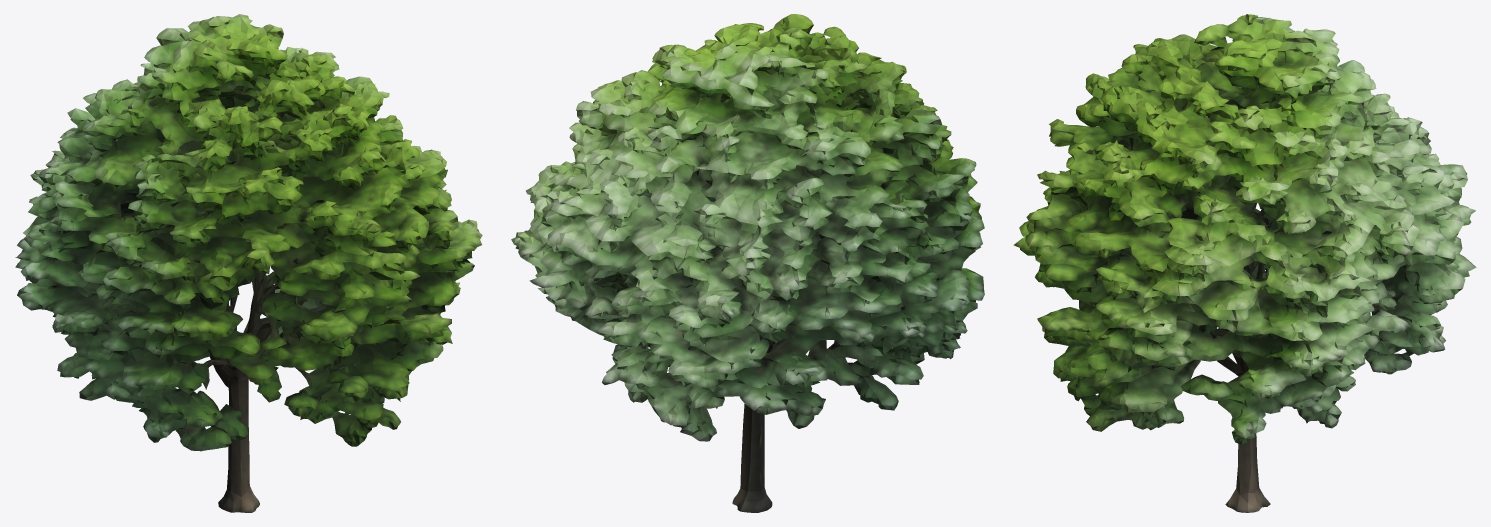
File: street-leafy.glb
3 views of the same model, side by side, from view 1: azimuth 30°, elevation 25°; view 2: azimuth 150°, elevation 25°; view 3: azimuth 270°, elevation 25° (orthographic).
Parts seen in each view (by area): view 1: world; view 2: world; view 3: world.
Boxes of the visible parts, x1,y1,x2,y2 form: world: (15,14,482,512); world: (511,14,984,512); world: (1013,14,1476,512).
Size of the model in its own units: 3.42 by 3.8 by 3.36.
Materials: 1 (1 with a texture image).
